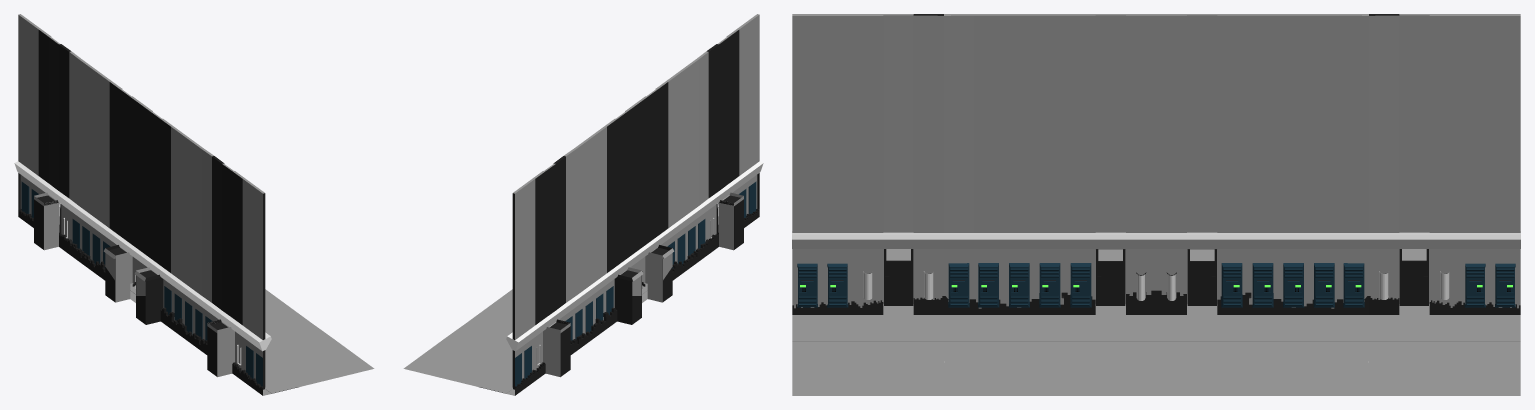
The model's file is toonhallway_ehetest_version4.fbx.
3 renders of one model, left to right at view 1: azimuth 30°, elevation 25°; view 2: azimuth 150°, elevation 25°; view 3: azimuth 270°, elevation 25°, orthographic. The views are drawn at different scales.
Parts seen in each view (by area): view 1: Hallway, Cube, Locker, Door; view 2: Hallway, Cube, Locker, Door; view 3: Hallway, Locker, Cube, Door, MalloditeLightPillar.
Boxes of the visible parts, box(x1,y1,x2,y2) form: Hallway: box(18, 14, 374, 395); Cube: box(14, 161, 271, 351); Locker: box(21, 181, 262, 386); Door: box(34, 199, 217, 376); Hallway: box(403, 14, 759, 395); Cube: box(506, 161, 763, 351); Locker: box(515, 181, 756, 386); Door: box(560, 199, 743, 376); Hallway: box(792, 14, 1520, 395); Locker: box(797, 263, 1515, 307); Cube: box(792, 231, 1520, 248); Door: box(884, 249, 1428, 305); MalloditeLightPillar: box(863, 271, 1449, 300).
Bounding box in the file's own units: 2888 × 4358 × 9564.
